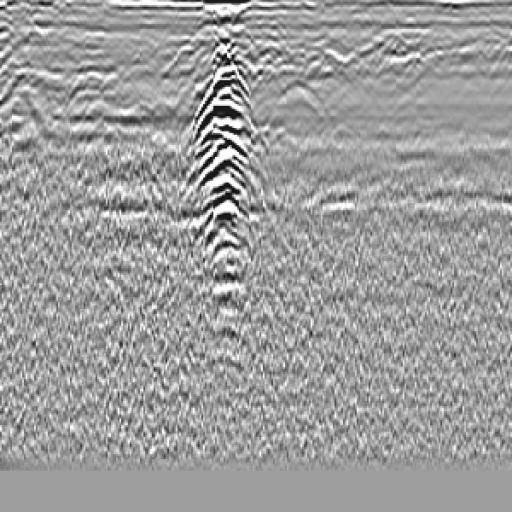metalic: (186, 28, 267, 342)
nonmetalic: (259, 78, 340, 157)
